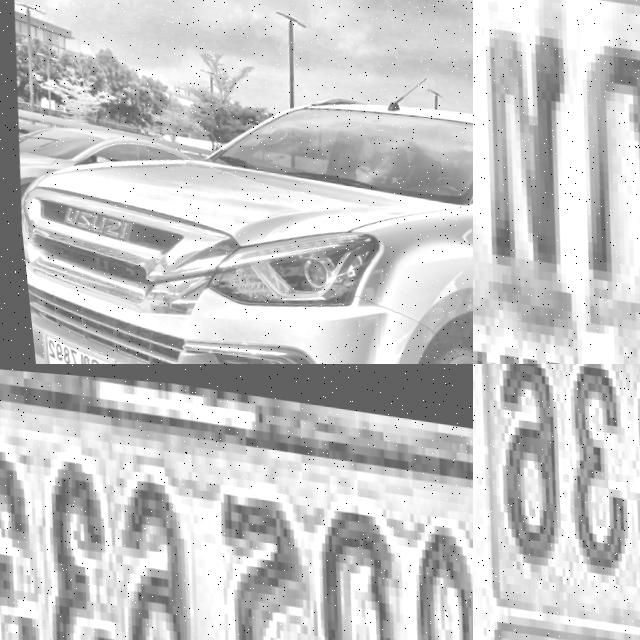license-plate: (0, 364, 473, 640), (473, 0, 640, 364), (473, 364, 640, 640), (23, 330, 116, 364)
